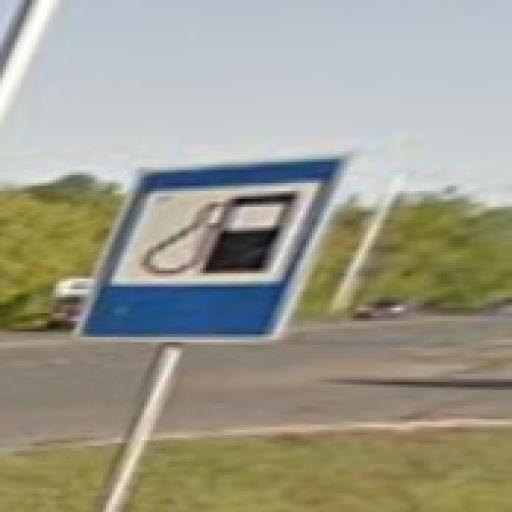traffic_sign: (72, 149, 354, 346)
